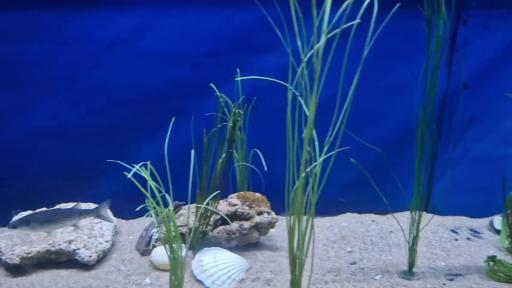Fish: (8, 200, 113, 233)
